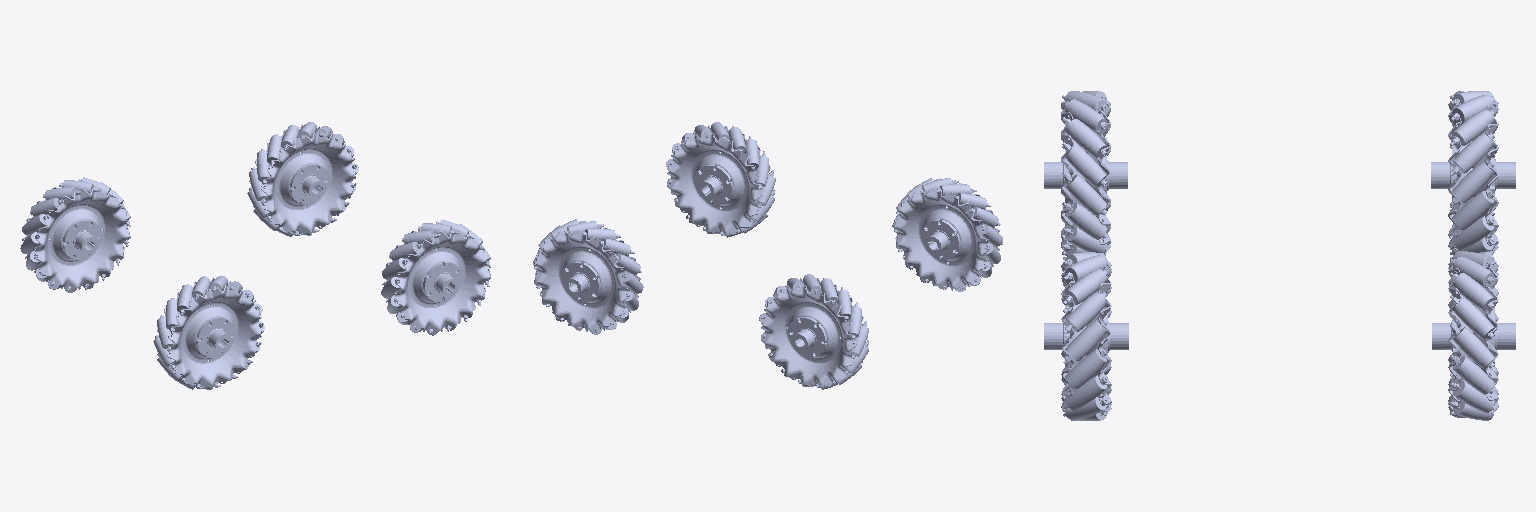
The robot description file, URDF, robot "urdf_2":
<?xml version="1.0" encoding="utf-8"?>
<!-- This URDF was automatically created by SolidWorks to URDF Exporter! Originally created by [author] ([email redacted]) 
     Commit Version: 1.6.0-4-g7f85cfe  Build Version: 1.6.7995.38578
     For more information, please see http://wiki.ros.org/sw_urdf_exporter -->
<robot
  name="urdf_2">
 
  
  <link
    name="base_linkslave">
    <inertial>
      <origin
        xyz="-0.0152231861455379 -0.000658896853065293 0.00462791999209499"
        rpy="0 0 0" />
      <mass
        value="2.88777277561288" />
      <inertia
        ixx="0.00797084962401825"
        ixy="8.52748529860987E-07"
        ixz="1.52729383606489E-08"
        iyy="0.0120968362106616"
        iyz="-2.1642242280147E-09"
        izz="0.0192370157537437" />
    </inertial>
    <visual>
      <origin
        xyz="0 0 0"
        rpy="0 0 0" />
      <geometry>
        <mesh
          filename="package://urdf_2/meshes/base_link.STL" />
      </geometry>
      <material
        name="">
        <color
          rgba="0.792156862745098 0.819607843137255 0.933333333333333 1" />
      </material>
    </visual>
    <collision>
      <origin
        xyz="0 0 0"
        rpy="0 0 0" />
      <geometry>
        <mesh
          filename="package://urdf_2/meshes/base_link.STL" />
      </geometry>
    </collision>
  </link>
  <link
    name="fl_wheel">
    <inertial>
      <origin
        xyz="1.39499770284435E-05 0.0139727319091172 0.000143157356134856"
        rpy="0 0 0" />
      <mass
        value="0.214384874801475" />
      <inertia
        ixx="8.11116107745398E-05"
        ixy="-3.51840310124305E-09"
        ixz="-7.42437562435213E-10"
        iyy="0.000138040069650481"
        iyz="4.83909213339643E-09"
        izz="8.11393331481548E-05" />
    </inertial>
    <visual>
      <origin
        xyz="0 0 0"
        rpy="0 0 0" />
      <geometry>
        <mesh
          filename="package://urdf_2/meshes/fl_wheel.STL" />
      </geometry>
      <material
        name="">
        <color
          rgba="0.792156862745098 0.819607843137255 0.933333333333333 1" />
      </material>
    </visual>
    <collision>
      <origin
        xyz="0 0 0"
        rpy="0 0 0" />
      <geometry>
        <mesh
          filename="package://urdf_2/meshes/fl_wheel.STL" />
      </geometry>
    </collision>
  </link>
  <joint
    name="fl_wheel_j"
    type="revolute">
    <origin
      xyz="0.16459 0.1563 -0.053988"
      rpy="0 0 0" />
    <parent
      link="base_linkslave" />
    <child
      link="fl_wheel" />
    <axis
      xyz="0 -1 0" />
    <limit
      lower="0"
      upper="0"
      effort="0"
      velocity="0" />
  </joint>
  <link
    name="fr_wheel">
    <inertial>
      <origin
        xyz="-1.13857938133233E-06 -0.0136728548332186 0.000402546759857299"
        rpy="0 0 0" />
      <mass
        value="0.21438487480186" />
      <inertia
        ixx="8.1082875085575E-05"
        ixy="-9.08915629734892E-12"
        ixz="6.02319087273385E-10"
        iyy="0.000138039806510861"
        iyz="-2.1336799087962E-13"
        izz="8.11680313284024E-05" />
    </inertial>
    <visual>
      <origin
        xyz="0 0 0"
        rpy="0 0 0" />
      <geometry>
        <mesh
          filename="package://urdf_2/meshes/fr_wheel.STL" />
      </geometry>
      <material
        name="">
        <color
          rgba="0.792156862745098 0.819607843137255 0.933333333333333 1" />
      </material>
    </visual>
    <collision>
      <origin
        xyz="0 0 0"
        rpy="0 0 0" />
      <geometry>
        <mesh
          filename="package://urdf_2/meshes/fr_wheel.STL" />
      </geometry>
    </collision>
  </link>
  <joint
    name="fr_wheel_j"
    type="revolute">
    <origin
      xyz="0.16459 -0.18924 -0.053988"
      rpy="3.1416 0 0" />
    <parent
      link="base_linkslave" />
    <child
      link="fr_wheel" />
    <axis
      xyz="0 -1 0" />
    <limit
      lower="0"
      upper="0"
      effort="0"
      velocity="0" />
  </joint>
  <link
    name="bl_wheel">
    <inertial>
      <origin
        xyz="0.000402199221493926 0.0136728548332586 -1.67623526500446E-05"
        rpy="0 0 0" />
      <mass
        value="0.214384874801844" />
      <inertia
        ixx="8.11680929101323E-05"
        ixy="6.05238310369855E-13"
        ixz="-2.70225305153216E-09"
        iyy="0.000138040068679994"
        iyz="9.17481040453078E-12"
        izz="8.108309974878E-05" />
    </inertial>
    <visual>
      <origin
        xyz="0 0 0"
        rpy="0 0 0" />
      <geometry>
        <mesh
          filename="package://urdf_2/meshes/bl_wheel.STL" />
      </geometry>
      <material
        name="">
        <color
          rgba="0.792156862745098 0.819607843137255 0.933333333333333 1" />
      </material>
    </visual>
    <collision>
      <origin
        xyz="0 0 0"
        rpy="0 0 0" />
      <geometry>
        <mesh
          filename="package://urdf_2/meshes/bl_wheel.STL" />
      </geometry>
    </collision>
  </link>
  <joint
    name="bl_wheel_j"
    type="revolute">
    <origin
      xyz="-0.17584 0.1563 -0.05397"
      rpy="0 0 0" />
    <parent
      link="base_linkslave" />
    <child
      link="bl_wheel" />
    <axis
      xyz="0 -1 0" />
    <limit
      lower="0"
      upper="0"
      effort="0"
      velocity="0" />
  </joint>
  <link
    name="br_wheel">
    <inertial>
      <origin
        xyz="2.97057800492107E-05 -0.0139727318912169 -0.000140734494857936"
        rpy="0 0 0" />
      <mass
        value="0.214384874803118" />
      <inertia
        ixx="8.11117254097731E-05"
        ixy="2.96144652416428E-09"
        ixz="-2.32448996986592E-09"
        iyy="0.000138039953813258"
        iyz="5.19855551498919E-09"
        izz="8.11390955034462E-05" />
    </inertial>
    <visual>
      <origin
        xyz="0 0 0"
        rpy="0 0 0" />
      <geometry>
        <mesh
          filename="package://urdf_2/meshes/br_wheel.STL" />
      </geometry>
      <material
        name="">
        <color
          rgba="0.792156862745098 0.819607843137255 0.933333333333333 1" />
      </material>
    </visual>
    <collision>
      <origin
        xyz="0 0 0"
        rpy="0 0 0" />
      <geometry>
        <mesh
          filename="package://urdf_2/meshes/br_wheel.STL" />
      </geometry>
    </collision>
  </link>
  <joint
    name="br_wheel_j"
    type="revolute">
    <origin
      xyz="-0.17562 -0.18989 -0.05414"
      rpy="3.1416 0 0" />
    <parent
      link="base_linkslave" />
    <child
      link="br_wheel" />
    <axis
      xyz="0 -1 0" />
    <limit
      lower="0"
      upper="0"
      effort="0"
      velocity="0" />
  </joint>
  <gazebo>
      <plugin name="object_controller" filename="libgazebo_ros_planar_move.so">
      	<commandTopic>cmd_velslave</commandTopic>
      	<odometryTopic>odom</odometryTopic>
      	<odometryFrame>odom</odometryFrame>
      	<odometryRate>20.0</odometryRate>
      	<robotBaseFrame>base_linkslave</robotBaseFrame>
    </plugin>
  </gazebo>
</robot>

--- Facts derived from the render (not from the file) ---
The picture shows the robot from 3 angles, left to right: view 1: azimuth 30°, elevation 25°; view 2: azimuth 150°, elevation 25°; view 3: azimuth 270°, elevation 25°; orthographic projection.
Model urdf_2 with 5 links and 4 joints (4 revolute), rooted at base_linkslave, posed all joints at 0.
Links seen in each view (by area): view 1: bl_wheel, fl_wheel, fr_wheel, br_wheel; view 2: bl_wheel, fr_wheel, fl_wheel, br_wheel; view 3: fr_wheel, fl_wheel, br_wheel, bl_wheel.
Boxes of the visible links, x1=… form: bl_wheel: x1=20, y1=177, x2=130, y2=292; fl_wheel: x1=247, y1=122, x2=358, y2=236; fr_wheel: x1=381, y1=220, x2=490, y2=335; br_wheel: x1=153, y1=276, x2=264, y2=389; bl_wheel: x1=759, y1=274, x2=868, y2=389; fr_wheel: x1=666, y1=122, x2=775, y2=237; fl_wheel: x1=533, y1=219, x2=643, y2=334; br_wheel: x1=892, y1=178, x2=1002, y2=291; fr_wheel: x1=1044, y1=252, x2=1128, y2=420; fl_wheel: x1=1432, y1=251, x2=1515, y2=420; br_wheel: x1=1044, y1=91, x2=1127, y2=255; bl_wheel: x1=1431, y1=91, x2=1515, y2=255.
Bounding box of the posed robot: 0.4923 × 0.4206 × 0.1523 m (x, y, z).
4 mesh visuals loaded from 5 distinct referenced files (4 binary STL); not drawn: 1 (reference not matched to a file when rendering).
